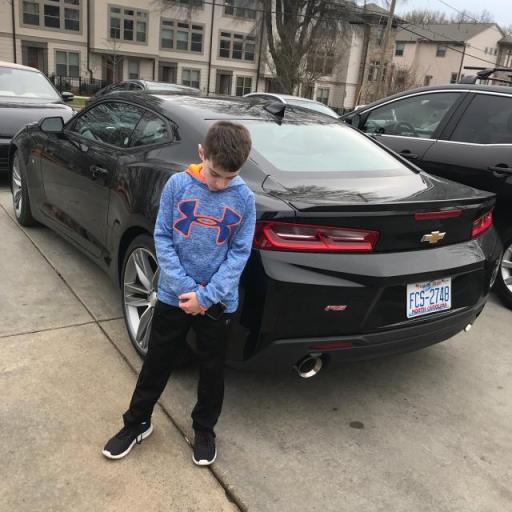Under Armour: (172, 198, 242, 244)
